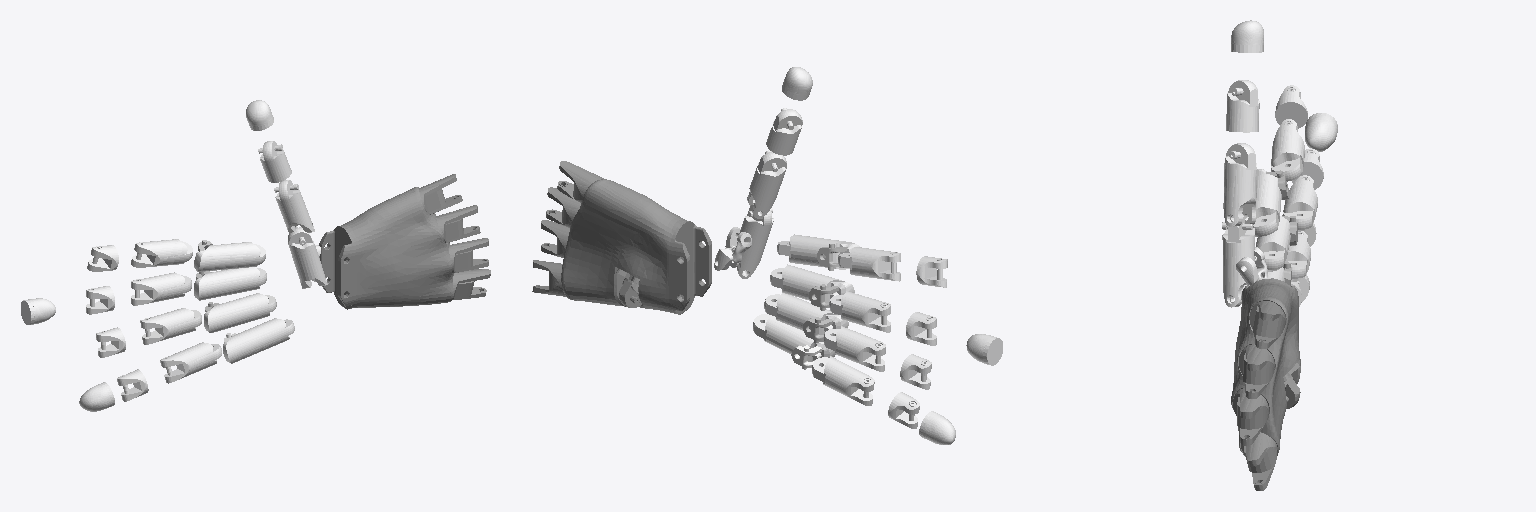
--- Render facts (derived) ---
3 views of the same robot in one strip: view 1: azimuth 30°, elevation 25°; view 2: azimuth 150°, elevation 25°; view 3: azimuth 270°, elevation 25° (orthographic).
Model d5_right_hands_tips with 26 links and 25 joints (20 revolute, 5 fixed), rooted at base_link, posed all joints at 0.
Links seen in each view (by area): view 1: base_link, PIPMCP_2rd_pinky, PIPMCP_2rd_ring, PIPMCP_2rd_middle, PIPMCP_2rd_index, DIP_ring, DIP_pinky, DIP_middle, CMC_2rd, DIP_index, MCP_thumb, IP_thumb (+7 smaller); view 2: base_link, DIP_pinky, DIP_ring, MCP_thumb, PIPMCP_2rd_ring, DIP_middle, PIPMCP_2rd_middle, DIP_index, PIPMCP_2rd_pinky, PIPMCP_2rd_index, CMC_2rd, IP_thumb (+8 smaller); view 3: base_link, MCP_thumb, CMC_2rd, IP_thumb, DIP_index, PIPMCP_2rd_index, DIP_middle, PIPMCP_2rd_middle, fingertip_middle, fingertip_thumb, tipmount_index, DIP_ring (+2 smaller).
Link boxes in pixels (<box>): base_link: <box>319,174,490,309</box>; PIPMCP_2rd_pinky: <box>223,318,294,363</box>; PIPMCP_2rd_ring: <box>204,293,276,332</box>; PIPMCP_2rd_middle: <box>194,267,266,300</box>; PIPMCP_2rd_index: <box>194,242,265,271</box>; DIP_ring: <box>140,308,201,344</box>; DIP_pinky: <box>160,342,221,383</box>; DIP_middle: <box>131,272,191,305</box>; CMC_2rd: <box>288,227,327,288</box>; DIP_index: <box>131,239,192,267</box>; MCP_thumb: <box>274,180,314,233</box>; IP_thumb: <box>258,141,291,182</box>; base_link: <box>532,161,711,314</box>; DIP_pinky: <box>812,356,874,405</box>; DIP_ring: <box>823,326,885,371</box>; MCP_thumb: <box>747,150,786,218</box>; PIPMCP_2rd_ring: <box>764,293,848,334</box>; DIP_middle: <box>829,291,890,332</box>; PIPMCP_2rd_middle: <box>770,264,854,302</box>; DIP_index: <box>838,247,900,281</box>; PIPMCP_2rd_pinky: <box>753,314,835,361</box>; PIPMCP_2rd_index: <box>777,234,859,269</box>; CMC_2rd: <box>737,204,773,278</box>; IP_thumb: <box>766,108,802,155</box>; base_link: <box>1231,278,1300,490</box>; MCP_thumb: <box>1223,143,1256,226</box>; CMC_2rd: <box>1222,215,1255,307</box>; IP_thumb: <box>1226,80,1259,132</box>; DIP_index: <box>1271,119,1304,181</box>; PIPMCP_2rd_index: <box>1253,169,1281,236</box>; DIP_middle: <box>1282,175,1317,231</box>; PIPMCP_2rd_middle: <box>1256,216,1290,271</box>; fingertip_middle: <box>1305,113,1337,151</box>; fingertip_thumb: <box>1231,20,1263,52</box>; tipmount_index: <box>1275,85,1307,128</box>; DIP_ring: <box>1285,231,1310,281</box>.
Size in the robot's own frame: 0.2976 by 0.0532 by 0.1855 metres.
24 mesh visuals loaded from 26 distinct referenced files (24 binary STL); not drawn: 2 (reference not matched to a file when rendering).

robot.urdf — d5_right_hands_tips:
<?xml version="1.0" encoding="utf-8"?>
<!-- This URDF was automatically created by SolidWorks to URDF Exporter! Originally created by Stephen Brawner ([email redacted]) 
     Commit Version: 1.6.0-4-g7f85cfe  Build Version: 1.6.7995.38578
     For more information, please see http://wiki.ros.org/sw_urdf_exporter -->
<robot
  name="d5_right_hands_tips">
  <link
    name="base_link">
    <inertial>
      <origin
        xyz="-0.0362817338745931 0.00305496700238872 0.00012652308364822"
        rpy="0 0 0" />
      <mass
        value="0.100729456637226" />
      <inertia
        ixx="3.4903252403848E-05"
        ixy="3.96057729338568E-06"
        ixz="3.90665622578165E-06"
        iyy="8.05762092877759E-05"
        iyz="-1.48869914829573E-06"
        izz="5.43177642836552E-05" />
    </inertial>
    <visual>
      <origin
        xyz="0 0 0"
        rpy="0 0 0" />
      <geometry>
        <mesh
          filename="meshes/base_link.STL" />
      </geometry>
      <material
        name="">
        <color
          rgba="0.627450980392157 0.627450980392157 0.627450980392157 1" />
      </material>
    </visual>
    <collision>
      <origin
        xyz="0 0 0"
        rpy="0 0 0" />
      <geometry>
        <mesh
          filename="meshes/base_link.STL" />
      </geometry>
    </collision>
  </link>
  <link
    name="CMC_joint">
    <inertial>
      <origin
        xyz="-0.00771367823748027 0.00183231505544754 -0.00219639202089756"
        rpy="0 0 0" />
      <mass
        value="0.00125785735605691" />
      <inertia
        ixx="3.83658914941671E-08"
        ixy="2.36460489065714E-09"
        ixz="-1.03477166087723E-08"
        iyy="6.98856638200257E-08"
        iyz="4.39609465963975E-09"
        izz="6.35623703634476E-08" />
    </inertial>
    <visual>
      <origin
        xyz="0 0 0"
        rpy="0 0 0" />
      <geometry>
        <mesh
          filename="meshes/CMC_joint.STL" />
      </geometry>
      <material
        name="">
        <color
          rgba="0.96078431372549 0.96078431372549 0.964705882352941 1" />
      </material>
    </visual>
    <collision>
      <origin
        xyz="0 0 0"
        rpy="0 0 0" />
      <geometry>
        <mesh
          filename="meshes/CMC_joint.STL" />
      </geometry>
    </collision>
  </link>
  <joint
    name="F1J1"
    type="revolute">
    <origin
      xyz="-0.0287119473549832 -0.00852444239874984 0.0205754013367985"
      rpy="1.6609493542778 0.89646815577158 1.20388201170241" />
    <parent
      link="base_link" />
    <child
      link="CMC_joint" />
    <axis
      xyz="0 0 1" />
    <limit
      lower="-0.0448"
      upper="1.6508"
      effort="0.6"
      velocity="8.58701992" />
  </joint>
  <link
    name="CMC_2rd">
    <inertial>
      <origin
        xyz="-0.0134830077074653 0.000922867497252785 0.00666084414044431"
        rpy="0 0 0" />
      <mass
        value="0.00526815598427129" />
      <inertia
        ixx="1.98041865895015E-07"
        ixy="-2.04696420847067E-09"
        ixz="1.36339106542372E-07"
        iyy="5.57505650011452E-07"
        iyz="5.09367453567155E-09"
        izz="4.90755198783683E-07" />
    </inertial>
    <visual>
      <origin
        xyz="0 0 0"
        rpy="0 0 0" />
      <geometry>
        <mesh
          filename="meshes/CMC_2rd.STL" />
      </geometry>
      <material
        name="">
        <color
          rgba="0.96078431372549 0.96078431372549 0.964705882352941 1" />
      </material>
    </visual>
    <collision>
      <origin
        xyz="0 0 0"
        rpy="0 0 0" />
      <geometry>
        <mesh
          filename="meshes/CMC_2rd.STL" />
      </geometry>
    </collision>
  </link>
  <joint
    name="F1J2"
    type="revolute">
    <origin
      xyz="-0.0145598308576187 0.00383358648575016 -0.00576550871894678"
      rpy="-0.0914928971126661 -0.705739837158521 -0.493269803017064" />
    <parent
      link="CMC_joint" />
    <child
      link="CMC_2rd" />
    <axis
      xyz="0 -1 0" />
    <limit
      lower="-0.1659"
      upper="0.9339"
      effort="0.6"
      velocity="11.10029404" />
  </joint>
  <link
    name="MCP_thumb">
    <inertial>
      <origin
        xyz="-0.0127840160194441 0.00137060752652221 -1.60835271583726E-05"
        rpy="0 0 0" />
      <mass
        value="0.00451776533982589" />
      <inertia
        ixx="1.22993633397689E-07"
        ixy="-9.34843505762833E-10"
        ixz="3.60535709302834E-10"
        iyy="3.89429239539063E-07"
        iyz="-1.24481110371496E-11"
        izz="3.80198753757361E-07" />
    </inertial>
    <visual>
      <origin
        xyz="0 0 0"
        rpy="0 0 0" />
      <geometry>
        <mesh
          filename="meshes/MCP_thumb.STL" />
      </geometry>
      <material
        name="">
        <color
          rgba="0.96078431372549 0.96078431372549 0.964705882352941 1" />
      </material>
    </visual>
    <collision>
      <origin
        xyz="0 0 0"
        rpy="0 0 0" />
      <geometry>
        <mesh
          filename="meshes/MCP_thumb.STL" />
      </geometry>
    </collision>
  </link>
  <joint
    name="F1J3"
    type="revolute">
    <origin
      xyz="-0.030766 -5.5784E-05 0.012586"
      rpy="0.33819 0.32765 7.0074E-05" />
    <parent
      link="CMC_2rd" />
    <child
      link="MCP_thumb" />
    <axis
      xyz="0 0 1" />
    <limit
      lower="-0.4932"
      upper="1.6272"
      effort="0.3"
      velocity="12.86307659" />
  </joint>
  <link
    name="IP_thumb">
    <inertial>
      <origin
        xyz="-0.0087334 0.0011845 0.00023663"
        rpy="0 0 0" />
      <mass
        value="0.0032446" />
      <inertia
        ixx="8.4532E-08"
        ixy="-2.2214E-09"
        ixz="3.7893E-10"
        iyy="1.5393E-07"
        iyz="-5.1545E-11"
        izz="1.5756E-07" />
    </inertial>
    <visual>
      <origin
        xyz="0 0 0"
        rpy="0 0 0" />
      <geometry>
        <mesh
          filename="meshes/IP_thumb.STL" />
      </geometry>
      <material
        name="">
        <color
          rgba="0.96078 0.96078 0.96471 1" />
      </material>
    </visual>
    <collision>
      <origin
        xyz="0 0 0"
        rpy="0 0 0" />
      <geometry>
        <mesh
          filename="meshes/IP_thumb.STL" />
      </geometry>
    </collision>
  </link>
  <joint
    name="F1J4"
    type="revolute">
    <origin
      xyz="-0.0289946553564469 0.000556723643987157 -0.000250000742295356"
      rpy="0 0 -0.0191986217719369" />
    <parent
      link="MCP_thumb" />
    <child
      link="IP_thumb" />
    <axis
      xyz="0 0 1" />
    <limit
      lower="-0.4932"
      upper="1.6272"
      effort="0.3"
      velocity="13.57866158" />
  </joint>
  <link
    name="fingertip_thumb">
    <inertial>
      <origin
        xyz="0.0066049 0.00028788 1.5879E-06"
        rpy="0 0 0" />
      <mass
        value="0.0014852" />
      <inertia
        ixx="3.7035E-08"
        ixy="1.4632E-09"
        ixz="-1.0485E-12"
        iyy="2.9544E-08"
        iyz="-1.5545E-12"
        izz="2.9178E-08" />
    </inertial>
    <visual>
      <origin
        xyz="0 0 0"
        rpy="0 0 0" />
      <geometry>
        <mesh
          filename="meshes/fingertip_thumb.STL" />
      </geometry>
      <material
        name="">
        <color
          rgba="0.96078 0.96078 0.96471 1" />
      </material>
    </visual>
    <collision>
      <origin
        xyz="0 0 0"
        rpy="0 0 0" />
      <geometry>
        <mesh
          filename="meshes/fingertip_thumb.STL" />
      </geometry>
    </collision>
  </link>
  <joint
    name="thumb_fingertip_fixed"
    type="fixed">
    <origin
      xyz="-0.0293000002212205 0.00105000183074177 0.000250000081465665"
      rpy="0 0 0" />
    <parent
      link="IP_thumb" />
    <child
      link="fingertip_thumb" />
    <axis
      xyz="0 0 0" />
  </joint>
  <link
    name="MCP_joint_index">
    <inertial>
      <origin
        xyz="-0.000319915345639632 0.0013292473539805 -6.02704366969853E-09"
        rpy="0 0 0" />
      <mass
        value="0.000379035353628356" />
      <inertia
        ixx="9.06832631392797E-09"
        ixy="-2.97882532906538E-09"
        ixz="4.85702461963548E-14"
        iyy="9.76761312855595E-09"
        iyz="3.96398496940897E-14"
        izz="8.49904595332904E-09" />
    </inertial>
    <visual>
      <origin
        xyz="0 0 0"
        rpy="0 0 0" />
      <geometry>
        <mesh
          filename="meshes/MCP_joint_index.STL" />
      </geometry>
      <material
        name="">
        <color
          rgba="0.796078431372549 0.796078431372549 0.796078431372549 1" />
      </material>
    </visual>
    <collision>
      <origin
        xyz="0 0 0"
        rpy="0 0 0" />
      <geometry>
        <mesh
          filename="meshes/MCP_joint_index.STL" />
      </geometry>
    </collision>
  </link>
  <joint
    name="F2J1"
    type="revolute">
    <origin
      xyz="-0.0919165306699503 0.00587008921482919 0.0294338632809185"
      rpy="0.219360935022254 0.123470682741789 -0.0454105657545556" />
    <parent
      link="base_link" />
    <child
      link="MCP_joint_index" />
    <axis
      xyz="0 0 1" />
    <limit
      lower="-0.32695"
      upper="1.63595"
      effort="1.0"
      velocity="8.203047484" />
  </joint>
  <link
    name="PIPMCP_2rd_index">
    <inertial>
      <origin
        xyz="-0.0174056343115065 0.00607488397988235 7.02482116618497E-06"
        rpy="0 0 0" />
      <mass
        value="0.00657987209047657" />
      <inertia
        ixx="1.7465205113407E-07"
        ixy="-3.15693138574795E-08"
        ixz="2.88424518328892E-10"
        iyy="9.45057722967349E-07"
        iyz="1.65534905120413E-11"
        izz="9.50286012403269E-07" />
    </inertial>
    <visual>
      <origin
        xyz="0 0 0"
        rpy="0 0 0" />
      <geometry>
        <mesh
          filename="meshes/PIPMCP_2rd_index.STL" />
      </geometry>
      <material
        name="">
        <color
          rgba="0.96078431372549 0.96078431372549 0.964705882352941 1" />
      </material>
    </visual>
    <collision>
      <origin
        xyz="0 0 0"
        rpy="0 0 0" />
      <geometry>
        <mesh
          filename="meshes/PIPMCP_2rd_index.STL" />
      </geometry>
    </collision>
  </link>
  <joint
    name="F2J2"
    type="revolute">
    <origin
      xyz="-0.00400000572579078 -0.00220000016539656 0"
      rpy="0 0 0" />
    <parent
      link="MCP_joint_index" />
    <child
      link="PIPMCP_2rd_index" />
    <axis
      xyz="0 1 0" />
    <limit
      lower="-0.495"
      upper="0.495"
      effort="0.2"
      velocity="8.115781022" />
  </joint>
  <link
    name="DIP_index">
    <inertial>
      <origin
        xyz="-0.015509 0.0011228 4.7032E-06"
        rpy="0 0 0" />
      <mass
        value="0.0045089" />
      <inertia
        ixx="1.2298E-07"
        ixy="9.5176E-09"
        ixz="-3.4196E-10"
        iyy="3.9711E-07"
        iyz="4.8839E-12"
        izz="3.8791E-07" />
    </inertial>
    <visual>
      <origin
        xyz="0 0 0"
        rpy="0 0 0" />
      <geometry>
        <mesh
          filename="meshes/DIP_index.STL" />
      </geometry>
      <material
        name="">
        <color
          rgba="0.96078 0.96078 0.96471 1" />
      </material>
    </visual>
    <collision>
      <origin
        xyz="0 0 0"
        rpy="0 0 0" />
      <geometry>
        <mesh
          filename="meshes/DIP_index.STL" />
      </geometry>
    </collision>
  </link>
  <joint
    name="F2J3"
    type="revolute">
    <origin
      xyz="-0.0366176824738114 0.00460000000550533 1.55808514892761E-05"
      rpy="0 0.000433200557103518 0" />
    <parent
      link="PIPMCP_2rd_index" />
    <child
      link="DIP_index" />
    <axis
      xyz="0 0 1" />
    <limit
      lower="-0.4932"
      upper="1.6272"
      effort="0.3"
      velocity="12.86307659" />
  </joint>
  <link
    name="tipmount_index">
    <inertial>
      <origin
        xyz="-0.00535172524642188 0.00089436496945188 1.70711126226131E-05"
        rpy="0 0 0" />
      <mass
        value="0.00137453055479477" />
      <inertia
        ixx="4.05616296493333E-08"
        ixy="1.59318598079109E-09"
        ixz="-8.52615637488302E-11"
        iyy="4.97882764363257E-08"
        iyz="-8.94156273384709E-12"
        izz="3.5113134946145E-08" />
    </inertial>
    <visual>
      <origin
        xyz="0 0 0"
        rpy="0 0 0" />
      <geometry>
        <mesh
          filename="meshes/tipmount_index.STL" />
      </geometry>
      <material
        name="">
        <color
          rgba="0.96078431372549 0.96078431372549 0.964705882352941 1" />
      </material>
    </visual>
    <collision>
      <origin
        xyz="0 0 0"
        rpy="0 0 0" />
      <geometry>
        <mesh
          filename="meshes/tipmount_index.STL" />
      </geometry>
    </collision>
  </link>
  <joint
    name="F2J4"
    type="revolute">
    <origin
      xyz="-0.0290000000150093 0 0"
      rpy="0.000268594994177152 0 0" />
    <parent
      link="DIP_index" />
    <child
      link="tipmount_index" />
    <axis
      xyz="0 0 1" />
    <limit
      lower="-0.4932"
      upper="1.6272"
      effort="0.3"
      velocity="13.57866158" />
  </joint>
  <link
    name="fingertip_index">
    <inertial>
      <origin
        xyz="0.00986632612758262 0.000242707786630898 -4.82080605827828E-06"
        rpy="0 0 0" />
      <mass
        value="0.00199522849792143" />
      <inertia
        ixx="4.72379097011826E-08"
        ixy="2.39112277288104E-09"
        ixz="1.69309900729916E-11"
        iyy="5.39285646069128E-08"
        iyz="7.66841379098212E-13"
        izz="5.31235878371183E-08" />
    </inertial>
    <visual>
      <origin
        xyz="0 0 0"
        rpy="0 0 0" />
      <geometry>
        <mesh
          filename="meshes/fingertip_index.STL" />
      </geometry>
      <material
        name="">
        <color
          rgba="0.96078431372549 0.96078431372549 0.964705882352941 1" />
      </material>
    </visual>
    <collision>
      <origin
        xyz="0 0 0"
        rpy="0 0 0" />
      <geometry>
        <mesh
          filename="meshes/fingertip_index.STL" />
      </geometry>
    </collision>
  </link>
  <joint
    name="index_fingertip_fixed"
    type="fixed">
    <origin
      xyz="-0.0267000004409279 0.00104999554055549 0"
      rpy="0 0 0" />
    <parent
      link="tipmount_index" />
    <child
      link="fingertip_index" />
    <axis
      xyz="0 0 0" />
  </joint>
  <link
    name="MCP_joint_middle">
    <inertial>
      <origin
        xyz="-0.000319986440870293 0.00132924961618549 2.64397394507745E-08"
        rpy="0 0 0" />
      <mass
        value="0.000379026804644953" />
      <inertia
        ixx="9.06823623278671E-09"
        ixy="-2.97885670449321E-09"
        ixz="7.91952968540631E-14"
        iyy="9.76751641414407E-09"
        iyz="4.99563335618183E-14"
        izz="8.49899334520404E-09" />
    </inertial>
    <visual>
      <origin
        xyz="0 0 0"
        rpy="0 0 0" />
      <geometry>
        <mesh
          filename="meshes/MCP_joint_middle.STL" />
      </geometry>
      <material
        name="">
        <color
          rgba="0.796078431372549 0.796078431372549 0.796078431372549 1" />
      </material>
    </visual>
    <collision>
      <origin
        xyz="0 0 0"
        rpy="0 0 0" />
      <geometry>
        <mesh
          filename="meshes/MCP_joint_middle.STL" />
      </geometry>
    </collision>
  </link>
  <joint
    name="F3J1"
    type="revolute">
    <origin
      xyz="-0.0895435117703842 0.0104597238611381 0.00746146014384912"
      rpy="-0.000581649931470466 0 -0.0872664772858757" />
    <parent
      link="base_link" />
    <child
      link="MCP_joint_middle" />
    <axis
      xyz="0 0 1" />
    <limit
      lower="-0.32695"
      upper="1.63595"
      effort="1.0"
      velocity="8.203047484" />
  </joint>
  <link
    name="PIPMCP_2rd_middle">
    <inertial>
      <origin
        xyz="-0.0174056342595395 0.00607488445872796 7.02692052072153E-06"
        rpy="0 0 0" />
      <mass
        value="0.00657987205231713" />
      <inertia
        ixx="1.74652044557727E-07"
        ixy="-3.15693167149104E-08"
        ixz="2.88428960333597E-10"
        iyy="9.45057745600407E-07"
        iyz="1.65899504968349E-11"
        izz="9.50286007732317E-07" />
    </inertial>
    <visual>
      <origin
        xyz="0 0 0"
        rpy="0 0 0" />
      <geometry>
        <mesh
          filename="meshes/PIPMCP_2rd_middle.STL" />
      </geometry>
      <material
        name="">
        <color
          rgba="0.96078431372549 0.96078431372549 0.964705882352941 1" />
      </material>
    </visual>
    <collision>
      <origin
        xyz="0 0 0"
        rpy="0 0 0" />
      <geometry>
        <mesh
          filename="meshes/PIPMCP_2rd_middle.STL" />
      </geometry>
    </collision>
  </link>
  <joint
    name="F3J2"
    type="revolute">
    <origin
      xyz="-0.00400000560823693 -0.00220000049330705 0"
      rpy="0 0 0" />
    <parent
      link="MCP_joint_middle" />
    <child
      link="PIPMCP_2rd_middle" />
    <axis
      xyz="0 1 0" />
    <limit
      lower="-0.495"
      upper="0.495"
      effort="0.2"
      velocity="8.115781022" />
  </joint>
  <link
    name="DIP_middle">
    <inertial>
      <origin
        xyz="-0.0155093917108602 0.0011227921077806 4.7178197170256E-06"
        rpy="0 0 0" />
      <mass
        value="0.00450884845157686" />
      <inertia
        ixx="1.22978069443671E-07"
        ixy="9.51784776119409E-09"
        ixz="-3.4206580561171E-10"
        iyy="3.97108495741243E-07"
        iyz="5.4409956538135E-12"
        izz="3.87914531389682E-07" />
    </inertial>
    <visual>
      <origin
        xyz="0 0 0"
        rpy="0 0 0" />
      <geometry>
        <mesh
          filename="meshes/DIP_middle.STL" />
      </geometry>
      <material
        name="">
        <color
          rgba="0.96078431372549 0.96078431372549 0.964705882352941 1" />
      </material>
    </visual>
    <collision>
      <origin
        xyz="0 0 0"
        rpy="0 0 0" />
      <geometry>
        <mesh
          filename="meshes/DIP_middle.STL" />
      </geometry>
    </collision>
  </link>
  <joint
    name="F3J3"
    type="revolute">
    <origin
      xyz="-0.0366176824738062 0.00460000000550358 1.55808609508257E-05"
      rpy="0 0.000433200815469852 0" />
    <parent
      link="PIPMCP_2rd_middle" />
    <child
      link="DIP_middle" />
    <axis
      xyz="0 0 1" />
    <limit
      lower="-0.4932"
      upper="1.6272"
      effort="0.3"
      velocity="12.86307659" />
  </joint>
  <link
    name="tipmount_middle">
    <inertial>
      <origin
        xyz="-0.0053517 0.00089435 1.7077E-05"
        rpy="0 0 0" />
      <mass
        value="0.0013745" />
      <inertia
        ixx="4.0562E-08"
        ixy="1.5933E-09"
        ixz="-8.5268E-11"
        iyy="4.9788E-08"
        iyz="-8.7813E-12"
        izz="3.5113E-08" />
    </inertial>
    <visual>
      <origin
        xyz="0 0 0"
        rpy="0 0 0" />
      <geometry>
        <mesh
          filename="meshes/tipmount_middle.STL" />
      </geometry>
      <material
        name="">
        <color
          rgba="0.96078 0.96078 0.96471 1" />
      </material>
    </visual>
    <collision>
      <origin
        xyz="0 0 0"
        rpy="0 0 0" />
      <geometry>
        <mesh
          filename="meshes/tipmount_middle.STL" />
      </geometry>
    </collision>
  </link>
  <joint
    name="F3J4"
    type="revolute">
    <origin
      xyz="-0.02900000001501 0 0"
      rpy="0.000268594994184729 0 0" />
    <parent
      link="DIP_middle" />
    <child
      link="tipmount_middle" />
    <axis
      xyz="0 0 1" />
    <limit
      lower="-0.4932"
      upper="1.6272"
      effort="0.3"
      velocity="13.57866158" />
  </joint>
  <link
    name="fingertip_middle">
    <inertial>
      <origin
        xyz="0.00986638359121364 0.000242762610506316 -4.82391756106981E-06"
        rpy="0 0 0" />
      <mass
        value="0.00199520868827841" />
      <inertia
        ixx="4.72376609188702E-08"
        ixy="2.39144459535487E-09"
        ixz="1.72654134777292E-11"
        iyy="5.39280650546202E-08"
        iyz="9.82832195511379E-13"
        izz="5.31222348014556E-08" />
    </inertial>
    <visual>
      <origin
        xyz="0 0 0"
        rpy="0 0 0" />
      <geometry>
        <mesh
          filename="meshes/fingertip_middle.STL" />
      </geometry>
      <material
        name="">
        <color
          rgba="0.96078431372549 0.96078431372549 0.964705882352941 1" />
      </material>
    </visual>
    <collision>
      <origin
        xyz="0 0 0"
        rpy="0 0 0" />
      <geometry>
        <mesh
          filename="meshes/fingertip_middle.STL" />
      </geometry>
    </collision>
  </link>
  <joint
    name="fingertip_middle_fixed"
    type="fixed">
    <origin
      xyz="-0.0267000004204019 0.00104999549760285 0"
      rpy="0 0 0" />
    <parent
      link="tipmount_middle" />
    <child
      link="fingertip_middle" />
    <axis
      xyz="0 0 0" />
  </joint>
  <link
    name="MCP_joint_ring">
    <inertial>
      <origin
        xyz="-0.00031999918604278 0.00132924338232786 3.2850746424333E-08"
        rpy="0 0 0" />
      <mass
        value="0.000379025355832582" />
      <inertia
        ixx="9.06823252983838E-09"
        ixy="-2.97884887246427E-09"
        ixz="6.65103640804393E-14"
        iyy="9.76748699064776E-09"
        iyz="4.64936659994173E-14"
        izz="8.49897500230578E-09" />
    </inertial>
    <visual>
      <origin
        xyz="0 0 0"
        rpy="0 0 0" />
      <geometry>
        <mesh
          filename="meshes/MCP_joint_ring.STL" />
      </geometry>
      <material
        name="">
        <color
          rgba="0.796078431372549 0.796078431372549 0.796078431372549 1" />
      </material>
    </visual>
    <collision>
      <origin
        xyz="0 0 0"
        rpy="0 0 0" />
      <geometry>
        <mesh
          filename="meshes/MCP_joint_ring.STL" />
      </geometry>
    </collision>
  </link>
  <joint
    name="F4J1"
    type="revolute">
    <origin
      xyz="-0.084429 0.0076649 -0.013712"
      rpy="-0.047172 -0.094201 -0.079087" />
    <parent
      link="base_link" />
    <child
      link="MCP_joint_ring" />
    <axis
      xyz="0 0 1" />
    <limit
      lower="-0.32695"
      upper="1.63595"
      effort="1.0"
      velocity="8.203047484" />
  </joint>
  <link
    name="PIPMCP_2rd_ring">
    <inertial>
      <origin
        xyz="-0.0174056342214865 0.00607488384657669 7.02737726518236E-06"
        rpy="0 0 0" />
      <mass
        value="0.00657987216683894" />
      <inertia
        ixx="1.74652051234683E-07"
        ixy="-3.15693177401151E-08"
        ixz="2.8842952520371E-10"
        iyy="9.45057727225164E-07"
        iyz="1.65999842364779E-11"
        izz="9.50286004918523E-07" />
    </inertial>
    <visual>
      <origin
        xyz="0 0 0"
        rpy="0 0 0" />
      <geometry>
        <mesh
          filename="meshes/PIPMCP_2rd_ring.STL" />
      </geometry>
      <material
        name="">
        <color
          rgba="0.96078431372549 0.96078431372549 0.964705882352941 1" />
      </material>
    </visual>
    <collision>
      <origin
        xyz="0 0 0"
        rpy="0 0 0" />
      <geometry>
        <mesh
          filename="meshes/PIPMCP_2rd_ring.STL" />
      </geometry>
    </collision>
  </link>
  <joint
    name="F4J2"
    type="revolute">
    <origin
      xyz="-0.004 -0.0022 0"
      rpy="0 0 0" />
    <parent
      link="MCP_joint_ring" />
    <child
      link="PIPMCP_2rd_ring" />
    <axis
      xyz="0 1 0" />
    <limit
      lower="-0.495"
      upper="0.495"
      effort="0.2"
      velocity="8.115781022" />
  </joint>
  <link
    name="DIP_ring">
    <inertial>
      <origin
        xyz="-0.0155093918610879 0.00112278782586408 4.73413024819173E-06"
        rpy="0 0 0" />
      <mass
        value="0.00450885216725925" />
      <inertia
        ixx="1.22978124780883E-07"
        ixy="9.51793054890693E-09"
        ixz="-3.42239631462505E-10"
        iyy="3.97108869387128E-07"
        iyz="5.91935003171753E-12"
        izz="3.87914639814856E-07" />
    </inertial>
    <visual>
      <origin
        xyz="0 0 0"
        rpy="0 0 0" />
      <geometry>
        <mesh
          filename="meshes/DIP_ring.STL" />
      </geometry>
      <material
        name="">
        <color
          rgba="0.96078431372549 0.96078431372549 0.964705882352941 1" />
      </material>
    </visual>
    <collision>
      <origin
        xyz="0 0 0"
        rpy="0 0 0" />
      <geometry>
        <mesh
          filename="meshes/DIP_ring.STL" />
      </geometry>
    </collision>
  </link>
  <joint
    name="F4J3"
    type="revolute">
    <origin
      xyz="-0.036618 0.0046 1.5581E-05"
      rpy="0 0.0004332 0" />
    <parent
      link="PIPMCP_2rd_ring" />
    <child
      link="DIP_ring" />
    <axis
      xyz="0 0 1" />
    <limit
      lower="-0.4932"
      upper="1.6272"
      effort="0.3"
      velocity="12.86307659" />
  </joint>
  <link
    name="tipmount_ring">
    <inertial>
      <origin
        xyz="-0.005351729511095 0.000894346509790563 1.7086589808514E-05"
        rpy="0 0 0" />
      <mass
        value="0.00137452817416282" />
      <inertia
        ixx="4.05615773264179E-08"
        ixy="1.59325139312679E-09"
        ixz="-8.52976180898049E-11"
        iyy="4.97881352950525E-08"
        iyz="-8.71857160822335E-12"
        izz="3.51132029919713E-08" />
    </inertial>
    <visual>
      <origin
        xyz="0 0 0"
        rpy="0 0 0" />
      <geometry>
        <mesh
          filename="meshes/tipmount_ring.STL" />
      </geometry>
      <material
        name="">
        <color
          rgba="0.96078431372549 0.96078431372549 0.964705882352941 1" />
      </material>
    </visual>
    <collision>
      <origin
        xyz="0 0 0"
        rpy="0 0 0" />
      <geometry>
        <mesh
          filename="meshes/tipmount_ring.STL" />
      </geometry>
    </collision>
  </link>
  <joint
    name="F4J4"
    type="revolute">
    <origin
      xyz="-0.029 0 0"
      rpy="0.00026859 0 0" />
    <parent
      link="DIP_ring" />
    <child
      link="tipmount_ring" />
    <axis
      xyz="0 0 1" />
    <limit
      lower="-0.4932"
      upper="1.6272"
      effort="0.3"
      velocity="13.57866158" />
  </joint>
  <link
    name="fingertip_ring">
    <inertial>
      <origin
        xyz="0.00986639024726599 0.000252316961107007 1.72931873365992E-06"
        rpy="0 0 0" />
      <mass
        value="0.00199520894508364" />
      <inertia
        ixx="4.72377154106638E-08"
        ixy="2.39155799699115E-09"
        ixz="1.72803398130845E-11"
        iyy="5.3927900693216E-08"
        iyz="7.83709775287707E-13"
        izz="5.31224375663837E-08" />
    </inertial>
    <visual>
      <origin
        xyz="0 0 0"
        rpy="0 0 0" />
      <geometry>
        <mesh
          filename="meshes/fingertip_ring.STL" />
      </geometry>
      <material
        name="">
        <color
          rgba="0.96078431372549 0.96078431372549 0.964705882352941 1" />
      </material>
    </visual>
    <collision>
      <origin
        xyz="0 0 0"
        rpy="0 0 0" />
      <geometry>
        <mesh
          filename="meshes/fingertip_ring.STL" />
      </geometry>
    </collision>
  </link>
  <joint
    name="fingertip_ring_fixed"
    type="fixed">
    <origin
      xyz="-0.0267 0.0010404 0"
      rpy="0 0 0" />
    <parent
      link="tipmount_ring" />
    <child
      link="fingertip_ring" />
    <axis
      xyz="0 0 0" />
  </joint>
  <link
    name="MCP_joint_pinky">
    <inertial>
      <origin
        xyz="-0.00031999918604278 0.00132924338232786 3.2850746424333E-08"
        rpy="0 0 0" />
      <mass
        value="0.000379025355832582" />
      <inertia
        ixx="9.06823252983838E-09"
        ixy="-2.97884887246427E-09"
        ixz="6.65103640804393E-14"
        iyy="9.76748699064776E-09"
        iyz="4.64936659994173E-14"
        izz="8.49897500230578E-09" />
    </inertial>
    <visual>
      <origin
        xyz="0 0 0"
        rpy="0 0 0" />
      <geometry>
        <mesh
          filename="meshes/MCP_joint_pinky.STL" />
      </geometry>
      <material
        name="">
        <color
          rgba="1 1 1 1" />
      </material>
    </visual>
    <collision>
      <origin
        xyz="0 0 0"
        rpy="0 0 0" />
      <geometry>
        <mesh
          filename="meshes/MCP_joint_pinky.STL" />
      </geometry>
    </collision>
  </link>
  <joint
    name="F5J1"
    type="revolute">
    <origin
      xyz="-0.0742813381427243 0.00226865106058523 -0.0340011106648663"
      rpy="-0.160365374712629 -0.204586980120563 -0.0608219010949235" />
    <parent
      link="base_link" />
    <child
      link="MCP_joint_pinky" />
    <axis
      xyz="0 0 1" />
    <limit
      lower="-0.32695"
      upper="1.63595"
      effort="1.0"
      velocity="8.203047484" />
  </joint>
  <link
    name="PIPMCP_2rd_pinky">
    <inertial>
      <origin
        xyz="-0.0174056341673092 0.00607488611667895 7.02946114356992E-06"
        rpy="0 0 0" />
      <mass
        value="0.00657987169240391" />
      <inertia
        ixx="1.74652025935675E-07"
        ixy="-3.1569308910913E-08"
        ixz="2.88433493885074E-10"
        iyy="9.4505778817037E-07"
        iyz="1.66296742783843E-11"
        izz="9.50285978684713E-07" />
    </inertial>
    <visual>
      <origin
        xyz="0 0 0"
        rpy="0 0 0" />
      <geometry>
        <mesh
          filename="meshes/PIPMCP_2rd_pinky.STL" />
      </geometry>
      <material
        name="">
        <color
          rgba="0.96078431372549 0.96078431372549 0.964705882352941 1" />
      </material>
    </visual>
    <collision>
      <origin
        xyz="0 0 0"
        rpy="0 0 0" />
      <geometry>
        <mesh
          filename="meshes/PIPMCP_2rd_pinky.STL" />
      </geometry>
    </collision>
  </link>
  <joint
    name="F5J2"
    type="revolute">
    <origin
      xyz="-0.0040000052819367 -0.00220000069793736 0"
      rpy="0 0 0" />
    <parent
      link="MCP_joint_pinky" />
    <child
      link="PIPMCP_2rd_pinky" />
    <axis
      xyz="0 1 0" />
    <limit
      lower="-0.495"
      upper="0.495"
      effort="0.2"
      velocity="8.115781022" />
  </joint>
  <link
    name="DIP_pinky">
    <inertial>
      <origin
        xyz="-0.0155093893464535 0.00112278799226154 4.74866655756495E-06"
        rpy="0 0 0" />
      <mass
        value="0.00450885769445445" />
      <inertia
        ixx="1.22978219289757E-07"
        ixy="9.51793774050059E-09"
        ixz="-3.42438036566865E-10"
        iyy="3.97109552000592E-07"
        iyz="6.27165212807384E-12"
        izz="3.87914797407966E-07" />
    </inertial>
    <visual>
      <origin
        xyz="0 0 0"
        rpy="0 0 0" />
      <geometry>
        <mesh
          filename="meshes/DIP_pinky.STL" />
      </geometry>
      <material
        name="">
        <color
          rgba="0.96078431372549 0.96078431372549 0.964705882352941 1" />
      </material>
    </visual>
    <collision>
      <origin
        xyz="0 0 0"
        rpy="0 0 0" />
      <geometry>
        <mesh
          filename="meshes/DIP_pinky.STL" />
      </geometry>
    </collision>
  </link>
  <joint
    name="F5J3"
    type="revolute">
    <origin
      xyz="-0.0366176824738007 0.00460000000550368 1.55808781511432E-05"
      rpy="0 0.00043320128520894 0" />
    <parent
      link="PIPMCP_2rd_pinky" />
    <child
      link="DIP_pinky" />
    <axis
      xyz="0 0 1" />
    <limit
      lower="-0.4932"
      upper="1.6272"
      effort="0.3"
      velocity="12.86307659" />
  </joint>
  <link
    name="tipmount_pinky">
    <inertial>
      <origin
        xyz="-0.00535172413896925 0.000894357087703209 1.70918996228002E-05"
        rpy="0 0 0" />
      <mass
        value="0.00137453094684671" />
      <inertia
        ixx="4.05616278583377E-08"
        ixy="1.59322067531226E-09"
        ixz="-8.53268008082692E-11"
        iyy="4.97883297247661E-08"
        iyz="-8.7378366094725E-12"
        izz="3.51131528512837E-08" />
    </inertial>
    <visual>
      <origin
        xyz="0 0 0"
        rpy="0 0 0" />
      <geometry>
        <mesh
          filename="meshes/tipmount_pinky.STL" />
      </geometry>
      <material
        name="">
        <color
          rgba="0.96078431372549 0.96078431372549 0.964705882352941 1" />
      </material>
    </visual>
    <collision>
      <origin
        xyz="0 0 0"
        rpy="0 0 0" />
      <geometry>
        <mesh
          filename="meshes/tipmount_pinky.STL" />
      </geometry>
    </collision>
  </link>
  <joint
    name="F5J4"
    type="revolute">
    <origin
      xyz="-0.0290000000150085 0 0"
      rpy="0.000268594994171455 0 0" />
    <parent
      link="DIP_pinky" />
    <child
      link="tipmount_pinky" />
    <axis
      xyz="0 0 1" />
    <limit
      lower="-0.4932"
      upper="1.6272"
      effort="0.3"
      velocity="13.57866158" />
  </joint>
  <link
    name="fingertip_pinky">
    <inertial>
      <origin
        xyz="0.00986639457822258 0.000242721364652409 -4.80509298105697E-06"
        rpy="0 0 0" />
      <mass
        value="0.00199521066470033" />
      <inertia
        ixx="4.72378810799744E-08"
        ixy="2.39179163159098E-09"
        ixz="1.71964753948245E-11"
        iyy="5.39277659112841E-08"
        iyz="4.98851207811953E-13"
        izz="5.3122897528373E-08" />
    </inertial>
    <visual>
      <origin
        xyz="0 0 0"
        rpy="0 0 0" />
      <geometry>
        <mesh
          filename="meshes/fingertip_pinky.STL" />
      </geometry>
      <material
        name="">
        <color
          rgba="0.96078431372549 0.96078431372549 0.964705882352941 1" />
      </material>
    </visual>
    <collision>
      <origin
        xyz="0 0 0"
        rpy="0 0 0" />
      <geometry>
        <mesh
          filename="meshes/fingertip_pinky.STL" />
      </geometry>
    </collision>
  </link>
  <joint
    name="fingertip_pinky_fixed"
    type="fixed">
    <origin
      xyz="-0.0267000010157146 0.00104999545263939 0"
      rpy="0 0 0" />
    <parent
      link="tipmount_pinky" />
    <child
      link="fingertip_pinky" />
    <axis
      xyz="0 0 0" />
  </joint>
</robot>
